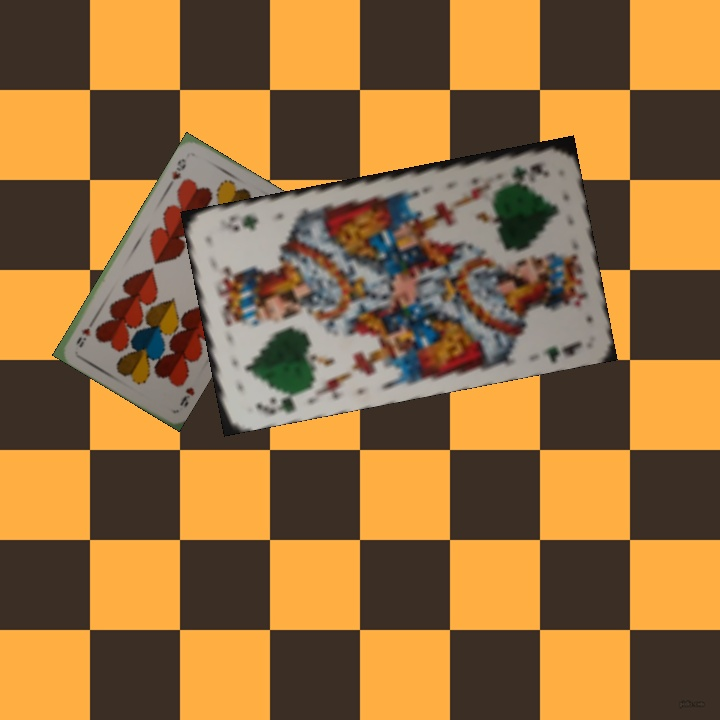GK: (252, 388, 301, 417), (507, 159, 553, 182)
H9: (166, 154, 189, 188), (175, 383, 197, 411)
